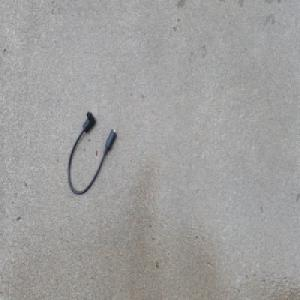Wire: (67, 110, 117, 197)
